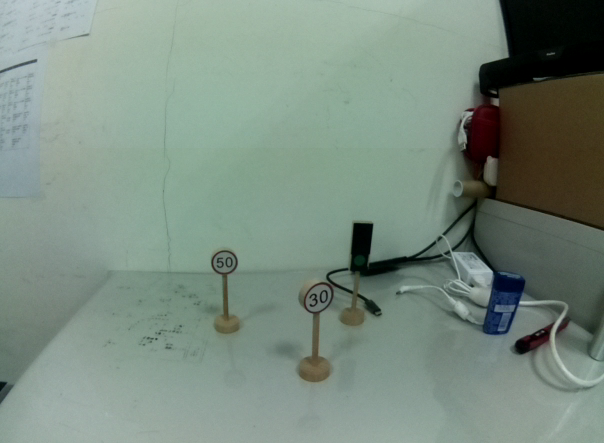Green: (350, 218, 373, 272)
Speed30: (299, 279, 335, 316)
Speed50: (211, 247, 239, 276)
